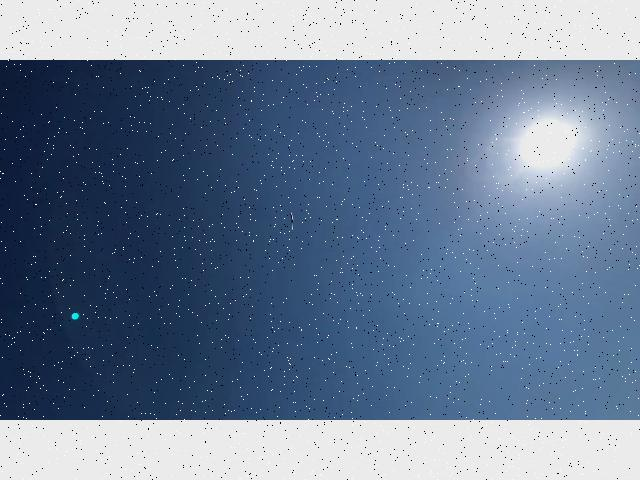Anti-Drone: (277, 205, 307, 237)
